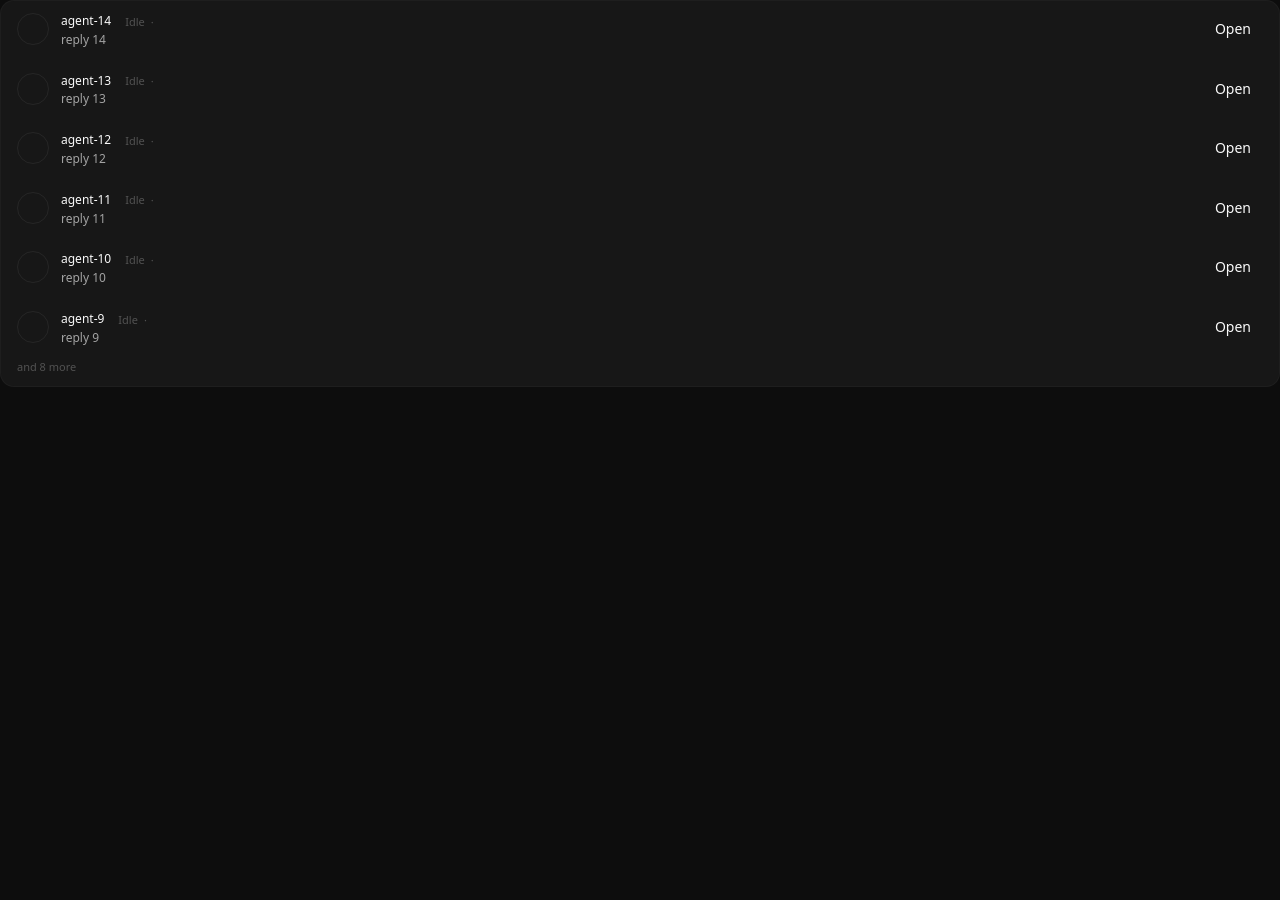
Test: shows the newest six and reveals the rest six at a time
Expected: the number of list items is 6, [1, 1, 1279, 61]; [1, 61, 1279, 120]; [1, 120, 1279, 180]; [1, 180, 1279, 239]; [1, 239, 1279, 299]; [1, 299, 1279, 359]
Expected: the text "reply 14" is shown, [61, 31, 106, 48]
Click the button "and 8 more" at (47,366), box [17, 359, 76, 374]
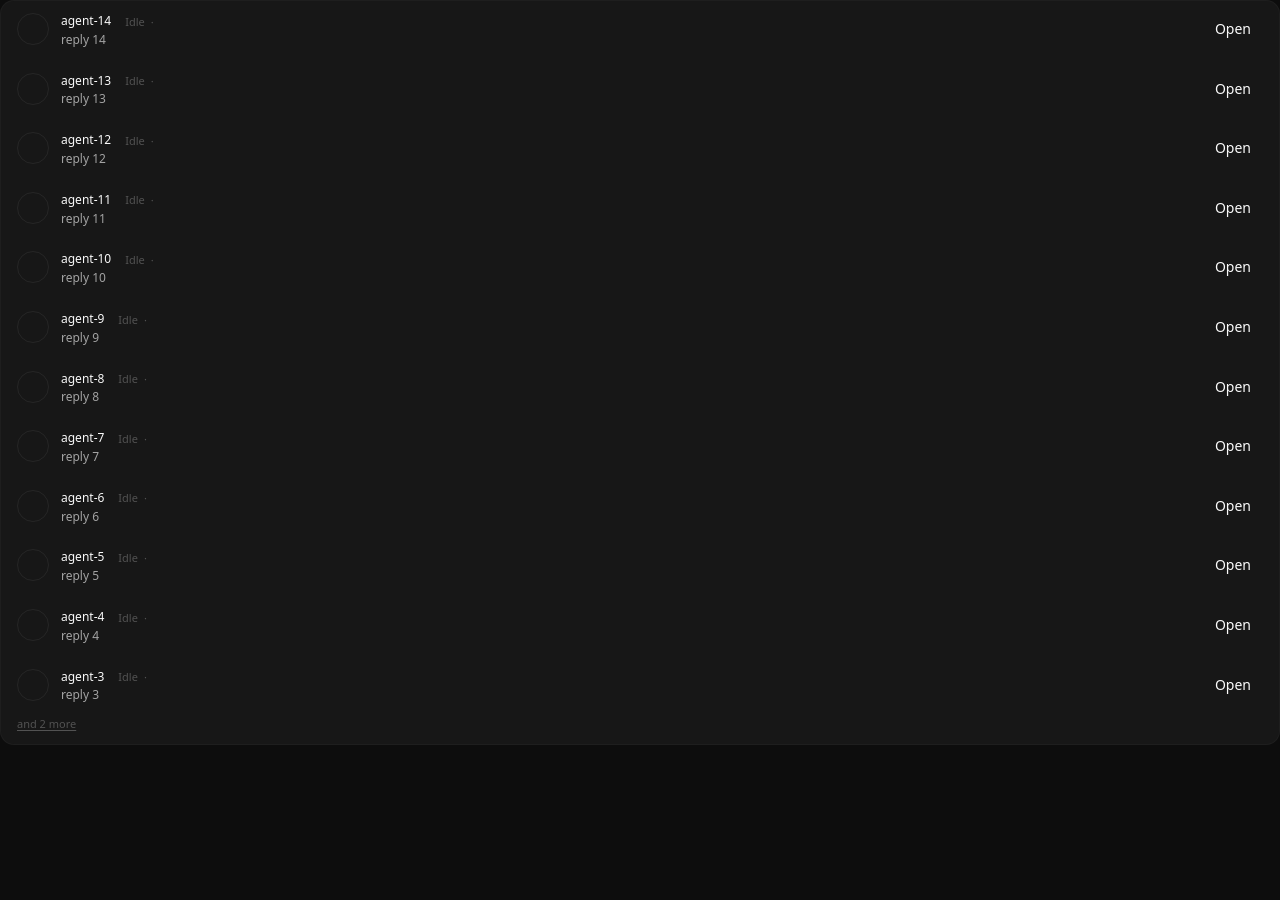
Now the number of list items is 12
Click the button "and 2 more" at (47,724), box [17, 716, 76, 732]
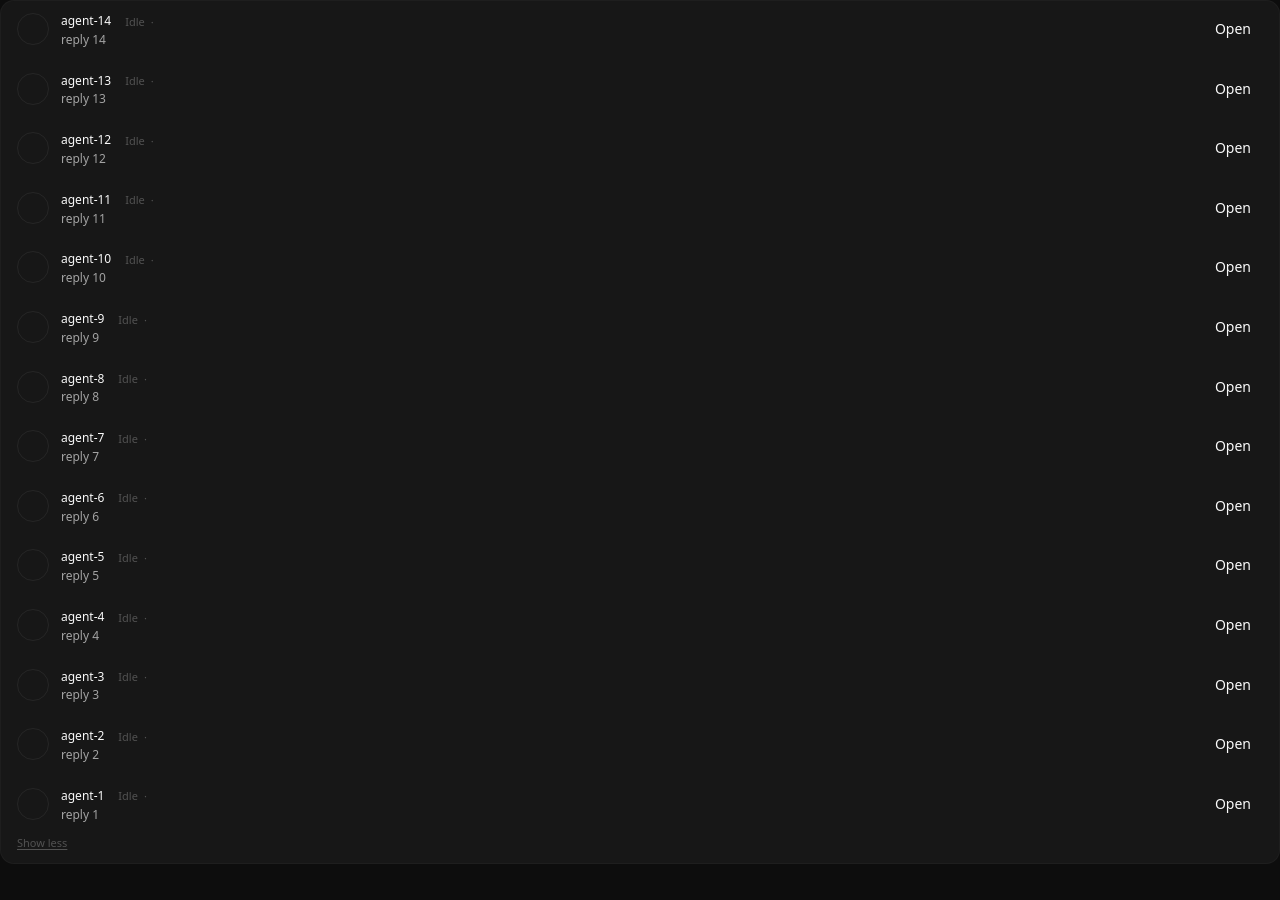
Now the text "reply 1" is shown, box [61, 806, 99, 822]
Click the button "Show less" at (42,843), box [17, 835, 67, 851]
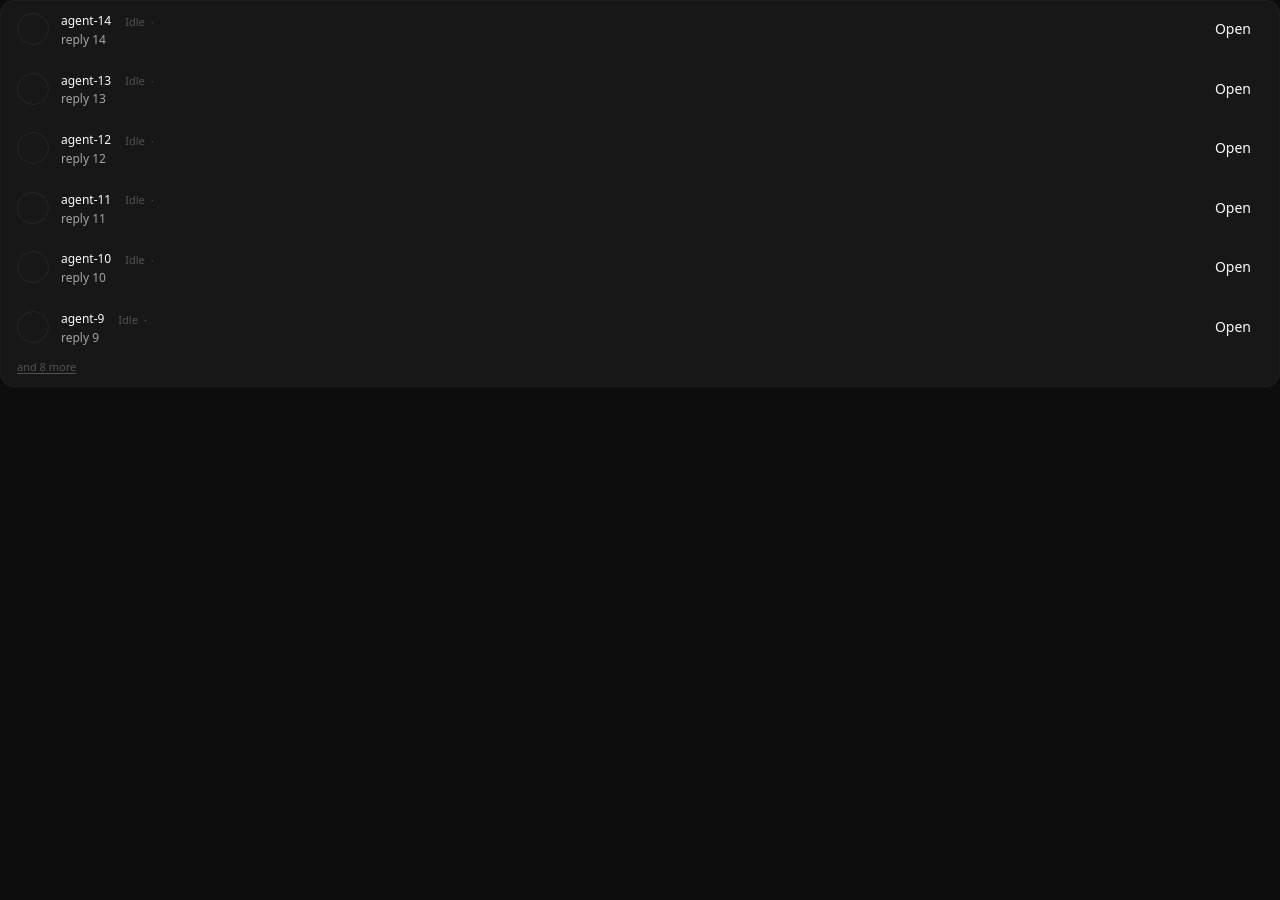
Now the number of list items is 6, box [1, 1, 1279, 61]; [1, 61, 1279, 120]; [1, 120, 1279, 180]; [1, 180, 1279, 239]; [1, 239, 1279, 299]; [1, 299, 1279, 359]
